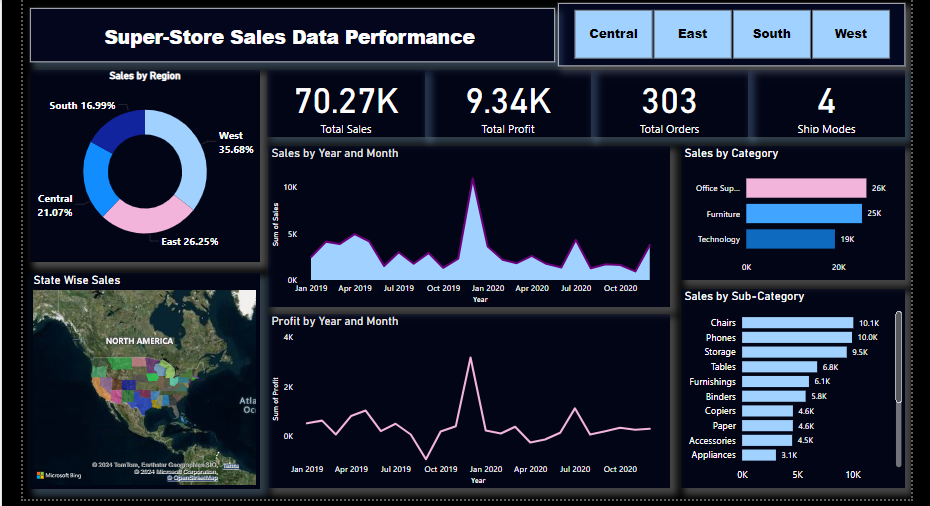

Layout of this report page (visuals, bound fields, positions):
{"tool":"powerbi","page":{"name":"Page 3","canvas":[1280,720],"ordinal":0},"visuals":[{"type":"textbox","box":[10.1,13,756,77.8],"z":0},{"type":"slicer","fields":{"Values":["Superstore Data.Region"]},"box":[770.4,5.8,499.7,90.7],"z":1000},{"type":"donutChart","title":" Sales by Region","fields":{"Category":["Customer.Region"],"Y":["Sum(Superstore Data.Sales)"]},"box":[10.1,102.2,331.2,276.5],"z":2000},{"type":"card","fields":{"Values":["Sum(Superstore Data.Sales)"]},"box":[351.4,102.2,227.5,96.5],"z":3000,"group":"g1"},{"type":"group","id":"g1","title":"Group 1","box":[351.4,102.2,918.7,96.5],"z":3000},{"type":"card","fields":{"Values":["Sum(Superstore Data.Profit)"]},"box":[578.9,102.2,239,96.5],"z":4000,"group":"g1"},{"type":"areaChart","title":"Sales by Year and Month","fields":{"Category":["Superstore Data.Order Date.Variation.Date Hierarchy.Year","Superstore Data.Order Date.Variation.Date Hierarchy.Month"],"Y":["Sum(Superstore Data.Sales)"]},"box":[352.8,211.7,578.9,231.8],"z":4000},{"type":"card","fields":{"Values":["CountNonNull(Superstore Data.Order ID)"]},"box":[818,102.2,226.1,96.5],"z":5000,"group":"g1"},{"type":"lineChart","title":"Profit by Year and Month","fields":{"Category":["Superstore Data.Order Date.Variation.Date Hierarchy.Year","Superstore Data.Order Date.Variation.Date Hierarchy.Month"],"Y":["Sum(Superstore Data.Profit)"]},"box":[352.8,453.6,578.9,250.6],"z":5000},{"type":"card","fields":{"Values":["Count(Superstore Data.Ship Mode)"]},"box":[1044,102.2,226.1,96.5],"z":6000,"group":"g1"},{"type":"barChart","title":"Sales by Category","fields":{"Category":["Superstore Data.Category"],"Y":["Sum(Superstore Data.Sales)"]},"box":[947.5,211.7,322.6,193],"z":6000},{"type":"barChart","title":"Sales by Sub-Category","fields":{"Y":["Sum(Superstore Data.Sales)"],"Category":["Superstore Data.Sub-Category"]},"box":[947.5,417.6,322.6,286.6],"z":7000},{"type":"filledMap","title":"State Wise Sales","fields":{"Category":["Superstore Data.State"],"Series":["Superstore Data.Sales"]},"box":[10.1,394.6,331.2,311],"z":8000}]}

Visuals, with their boxes on the page's 1280x720 design canvas (x1, y1, x2, y2). These are canvas units, not pixel positions in the 930x506 screenshot, which may show the page scaled, cropped or inside an application window:
textbox: [10, 13, 766, 91]
slicer - Superstore Data.Region: [770, 6, 1270, 96]
" Sales by Region" donutChart: [10, 102, 341, 379]
card - Sum(Superstore Data.Sales): [351, 102, 579, 199]
"Group 1" group: [351, 102, 1270, 199]
card - Sum(Superstore Data.Profit): [579, 102, 818, 199]
"Sales by Year and Month" areaChart: [353, 212, 932, 444]
card - CountNonNull(Superstore Data.Order ID): [818, 102, 1044, 199]
"Profit by Year and Month" lineChart: [353, 454, 932, 704]
card - Count(Superstore Data.Ship Mode): [1044, 102, 1270, 199]
"Sales by Category" barChart: [948, 212, 1270, 405]
"Sales by Sub-Category" barChart: [948, 418, 1270, 704]
"State Wise Sales" filledMap: [10, 395, 341, 706]
